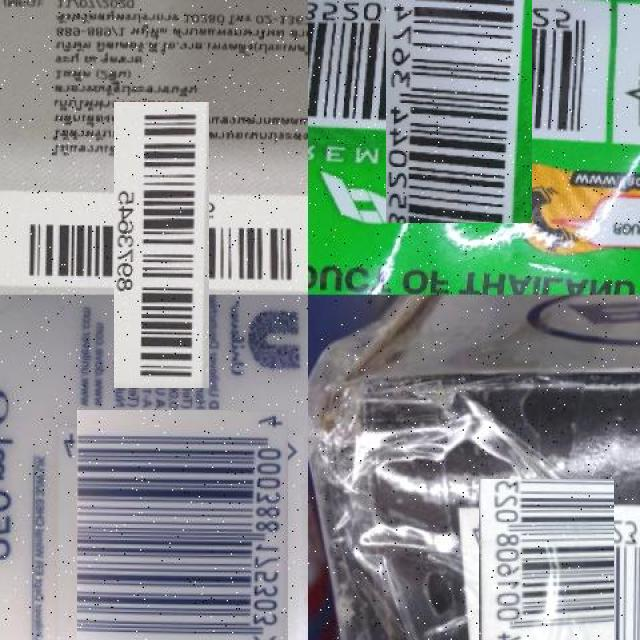Barcode: (68, 419, 298, 640), (347, 0, 571, 185), (66, 150, 257, 341), (467, 493, 627, 640)
